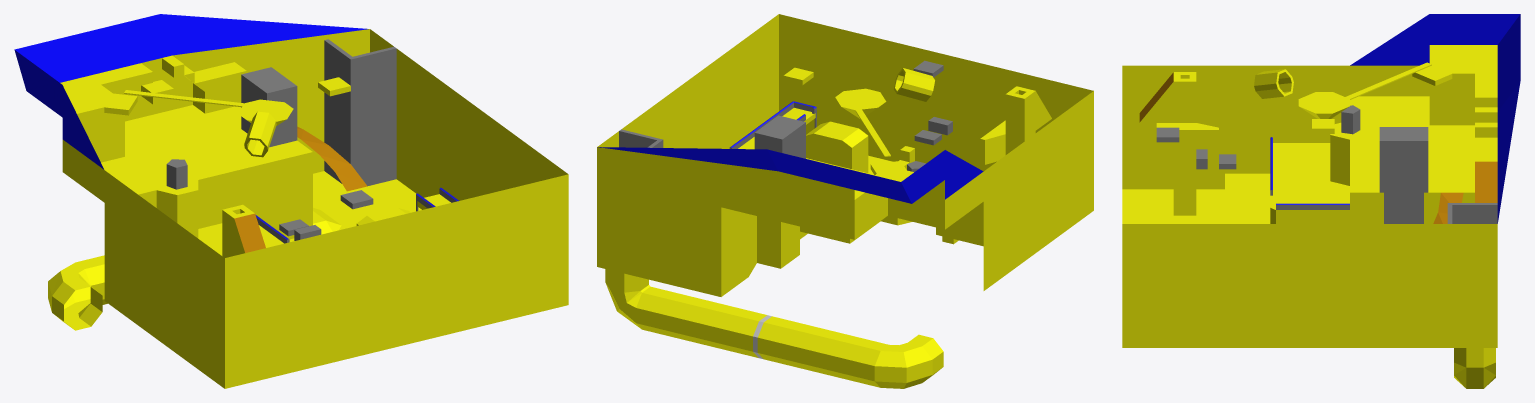
Rendered from wdw_segment7.0x14150.collision.obj.
The picture shows the model from 3 angles, left to right: view 1: azimuth 30°, elevation 25°; view 2: azimuth 150°, elevation 25°; view 3: azimuth 270°, elevation 25°; orthographic projection. The views are drawn at different scales.
Parts seen in each view (by area): view 1: wdw_segment7_14150_normal, wdw_segment7_14150_wall, wdw_segment7_14150_very_slippery, wdw_segment7_14150_climbable; view 2: wdw_segment7_14150_normal, wdw_segment7_14150_very_slippery, wdw_segment7_14150_wall; view 3: wdw_segment7_14150_normal, wdw_segment7_14150_very_slippery, wdw_segment7_14150_wall, wdw_segment7_14150_climbable.
Part boxes in pixels (x1,y1,x2,y2): wdw_segment7_14150_normal: [48, 29, 568, 388]; wdw_segment7_14150_wall: [166, 39, 456, 243]; wdw_segment7_14150_very_slippery: [14, 14, 368, 169]; wdw_segment7_14150_climbable: [234, 126, 367, 252]; wdw_segment7_14150_normal: [597, 14, 1093, 388]; wdw_segment7_14150_very_slippery: [598, 147, 983, 203]; wdw_segment7_14150_wall: [619, 60, 952, 172]; wdw_segment7_14150_normal: [1122, 45, 1497, 388]; wdw_segment7_14150_very_slippery: [1350, 14, 1520, 223]; wdw_segment7_14150_wall: [1156, 105, 1497, 223]; wdw_segment7_14150_climbable: [1139, 72, 1497, 223].
Size of the model in its own units: 8.25 by 5.71 by 8.75.
